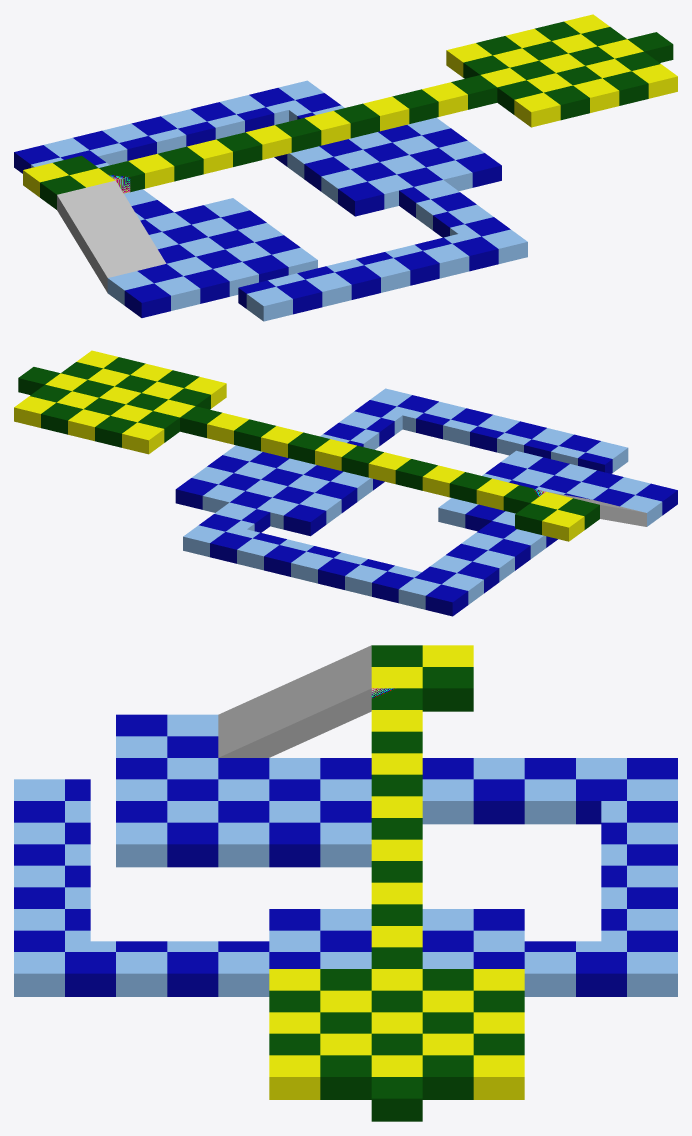
3 views of the same model, one above another, from view 1: azimuth 30°, elevation 25°; view 2: azimuth 150°, elevation 25°; view 3: azimuth 270°, elevation 25° (orthographic). The views are drawn at different scales.
Parts seen in each view (by area): view 1: Untitled; view 2: Untitled; view 3: Untitled.
Part boxes in pixels (x1=…): Untitled: x1=14, y1=14, x2=677, y2=321; Untitled: x1=14, y1=350, x2=677, y2=616; Untitled: x1=14, y1=645, x2=677, y2=1121.
Bounding box in the file's own units: 4.2 × 0.4 × 2.6.
1 material, 1 textured.
